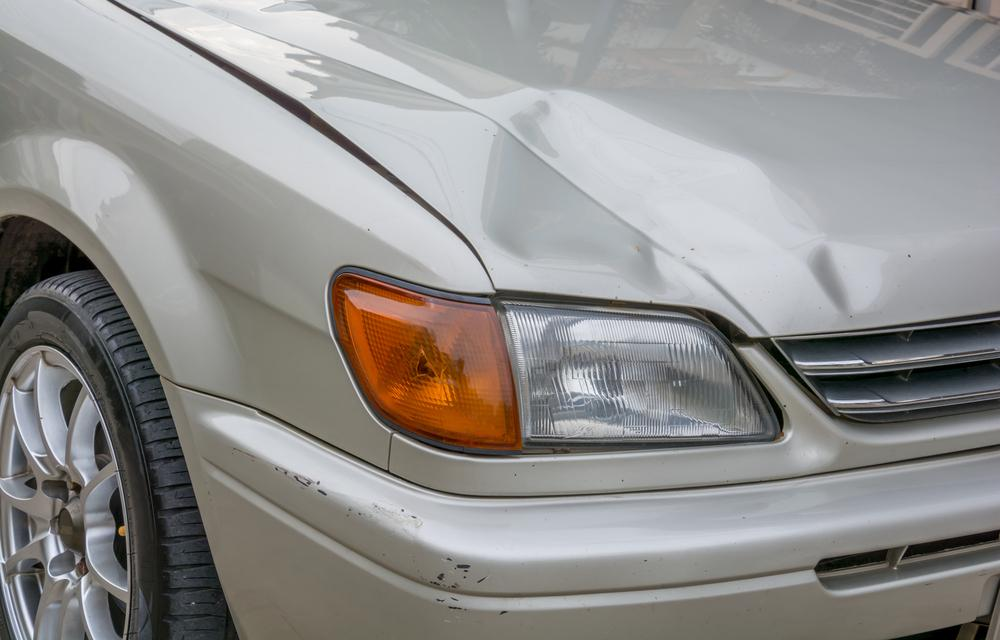dent: (477, 86, 891, 335)
lamp broken: (333, 272, 522, 454)
scratch: (257, 456, 512, 623)
